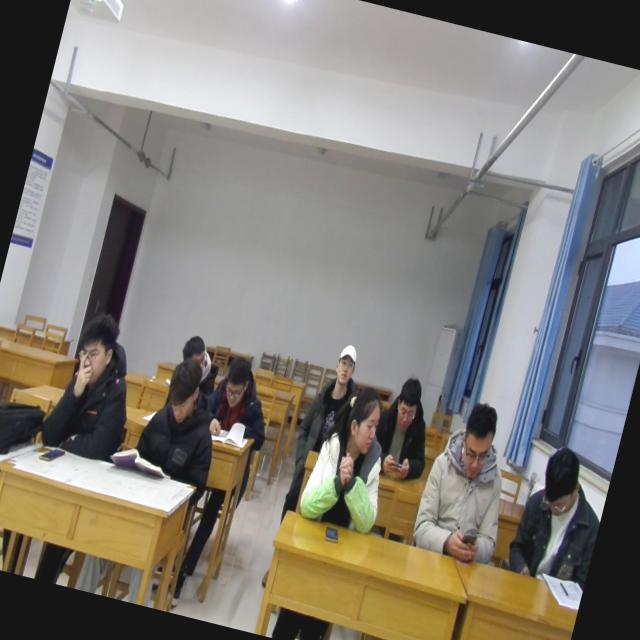down: (66, 304, 125, 392), (450, 393, 504, 482), (532, 441, 589, 524), (158, 354, 208, 430), (386, 370, 427, 436), (214, 352, 256, 416), (174, 326, 212, 374)
lookup: (328, 336, 362, 389)
sit: (408, 390, 530, 568), (32, 311, 150, 468), (293, 382, 404, 538), (506, 442, 614, 588), (126, 356, 232, 496), (292, 332, 368, 468), (366, 373, 444, 482), (198, 355, 282, 454), (171, 322, 229, 394)
